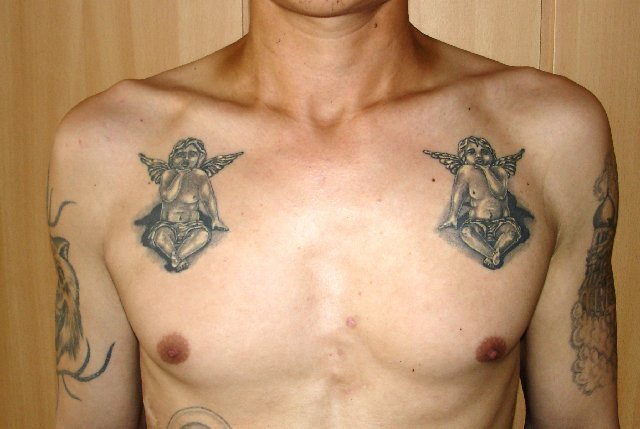tatu1_angel: (410, 132, 551, 272), (128, 136, 248, 275)
